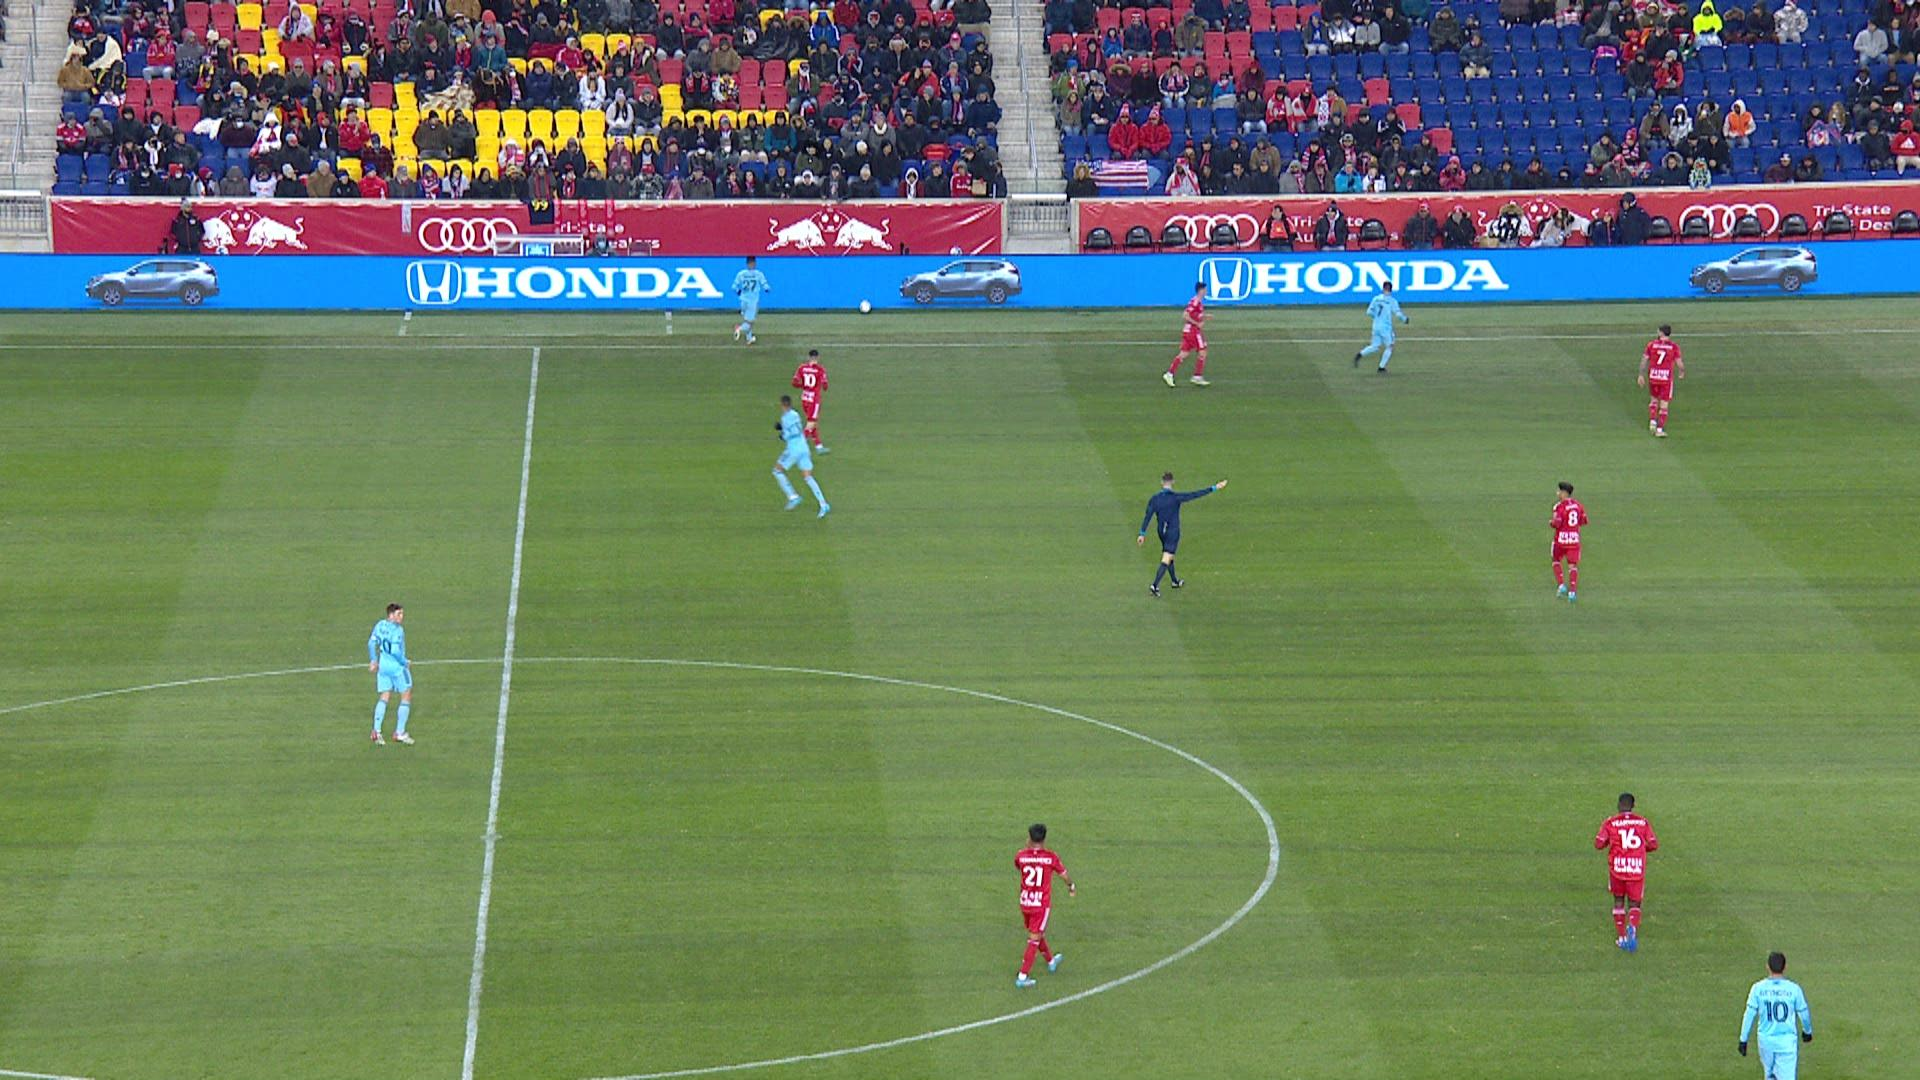football: (858, 299, 872, 313)
